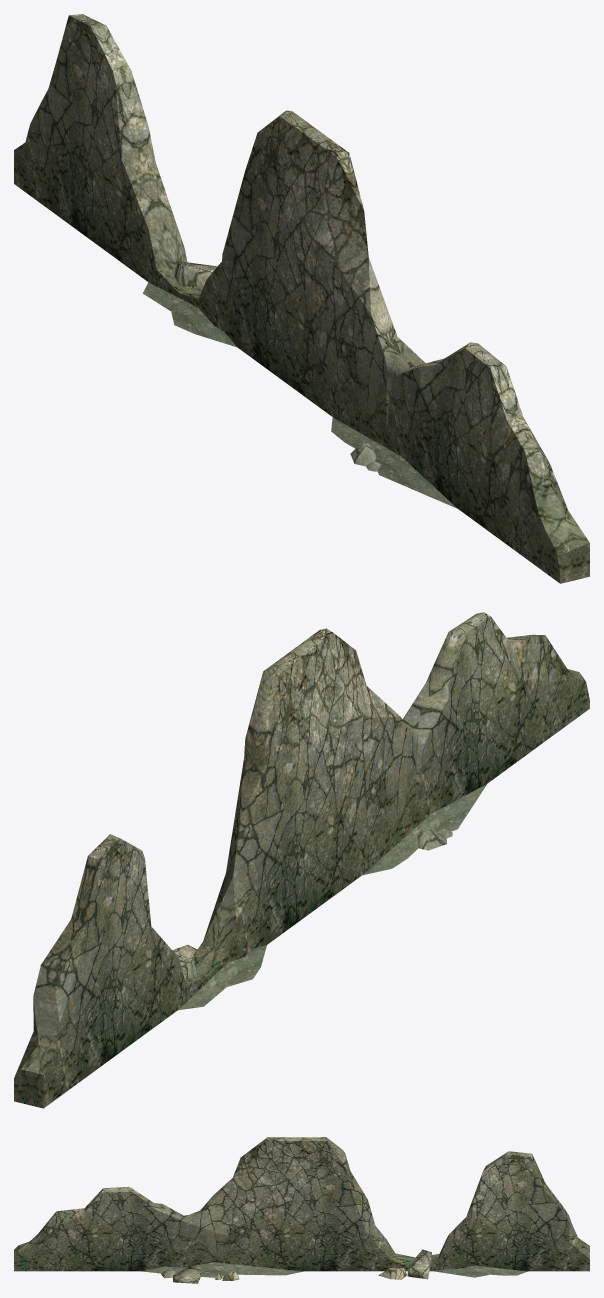
The model's file is thm_nboo_gungan_wall_ruined_lg_s01_l1.fbx.
The picture shows the model from 3 angles, top to bottom: view 1: azimuth 30°, elevation 25°; view 2: azimuth 150°, elevation 25°; view 3: azimuth 270°, elevation 25°; orthographic projection. The views are drawn at different scales.
Visible parts, largest first — view 1: mesh_node; view 2: mesh_node; view 3: mesh_node.
Boxes of the visible parts, bbox=[...] form: mesh_node: bbox=[14, 14, 589, 583]; mesh_node: bbox=[14, 612, 589, 1108]; mesh_node: bbox=[14, 1137, 589, 1283].
Size of the model in its own units: 1.85 by 4.07 by 16.
